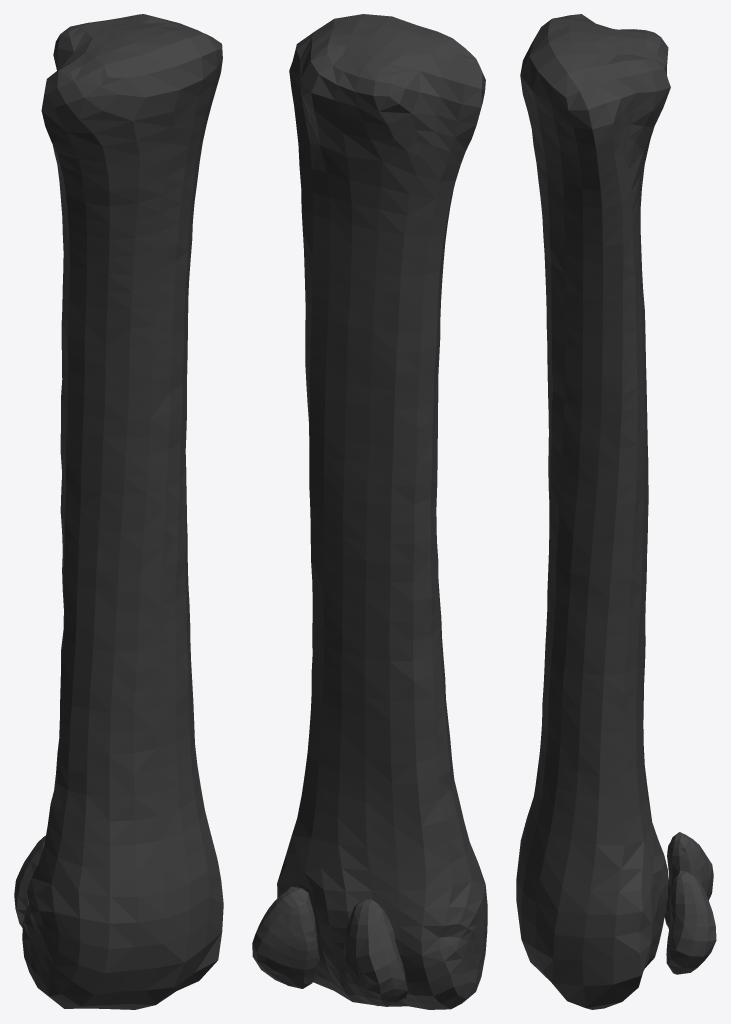
The model's file is LFL_cannon.glb.
The picture shows the model from 3 angles, left to right: view 1: azimuth 30°, elevation 25°; view 2: azimuth 150°, elevation 25°; view 3: azimuth 270°, elevation 25°; orthographic projection.
Visible parts, largest first — view 1: LFL_cannon; view 2: LFL_cannon; view 3: LFL_cannon.
Boxes of the visible parts, bbox=[...] form: LFL_cannon: bbox=[14, 14, 223, 1009]; LFL_cannon: bbox=[252, 14, 487, 1009]; LFL_cannon: bbox=[516, 14, 716, 1009].
Size of the model in its own units: 12.09 by 60.55 by 11.48.
Materials: 1 (1 with a texture image).
